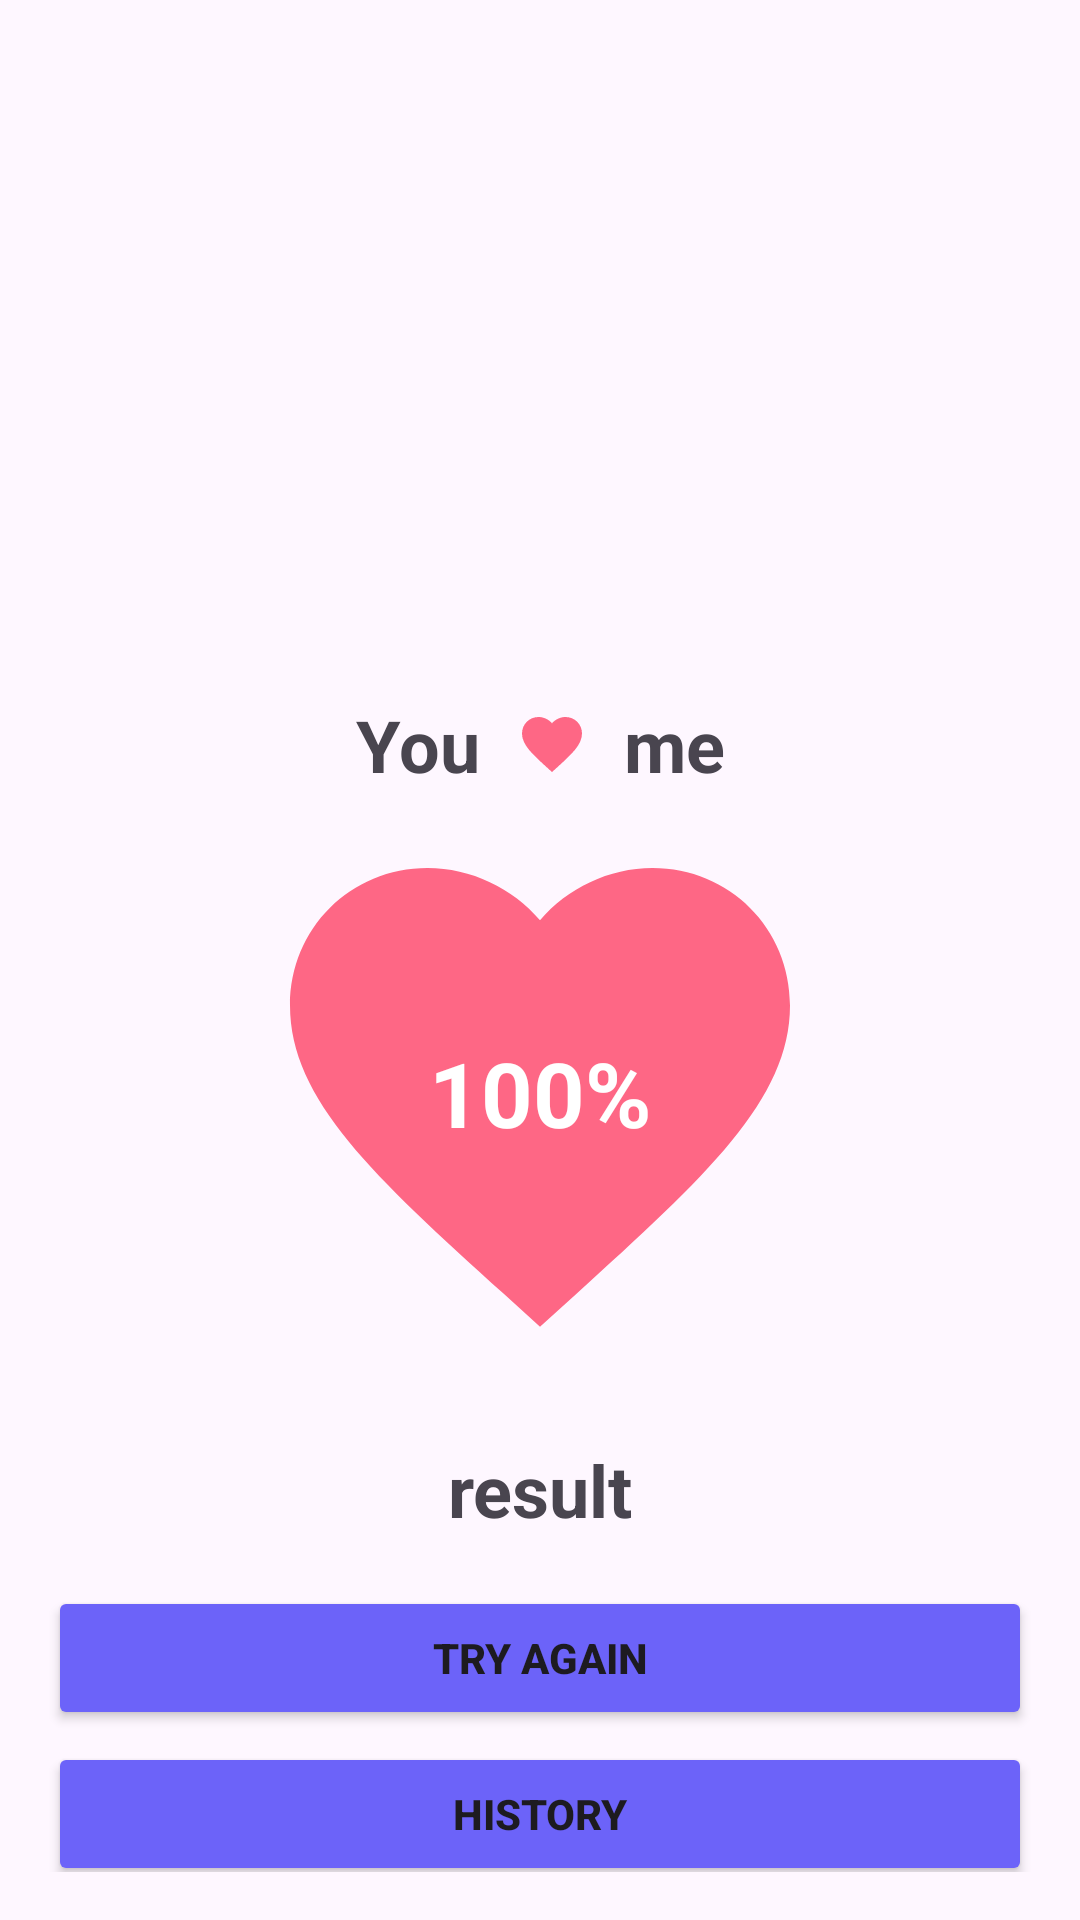

Locate icon controls on the screen. Image size 1080px x 1920px, boxes as (x1, y1, x2, y2).
love: (522, 717, 582, 772)
